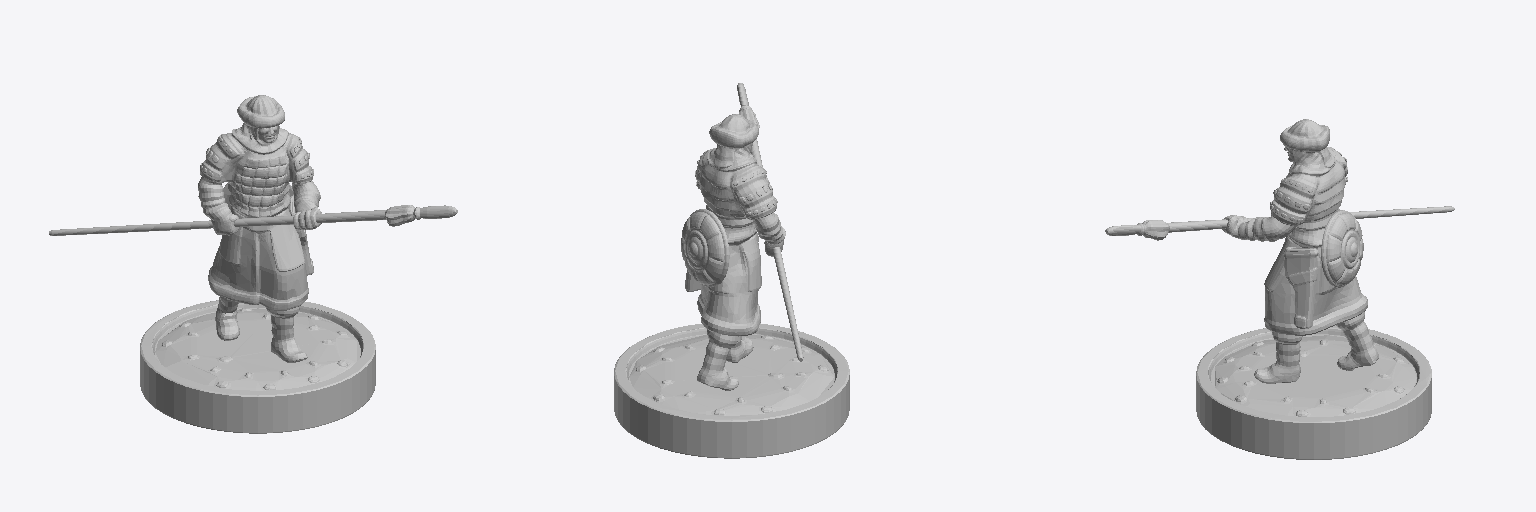
Rendered from warrior.obj.
3 renders of one model, left to right at view 1: azimuth 30°, elevation 25°; view 2: azimuth 150°, elevation 25°; view 3: azimuth 270°, elevation 25°, orthographic.
Visible parts, largest first — view 1: 17041_MongolianWarrior_LongSpear_V1; view 2: 17041_MongolianWarrior_LongSpear_V1; view 3: 17041_MongolianWarrior_LongSpear_V1.
Part boxes in pixels (x1,y1,x2,y2): 17041_MongolianWarrior_LongSpear_V1: (49,95,457,433); 17041_MongolianWarrior_LongSpear_V1: (614,83,849,458); 17041_MongolianWarrior_LongSpear_V1: (1105,119,1454,459).
Bounding box in the file's own units: 2.8 × 3.21 × 3.49.